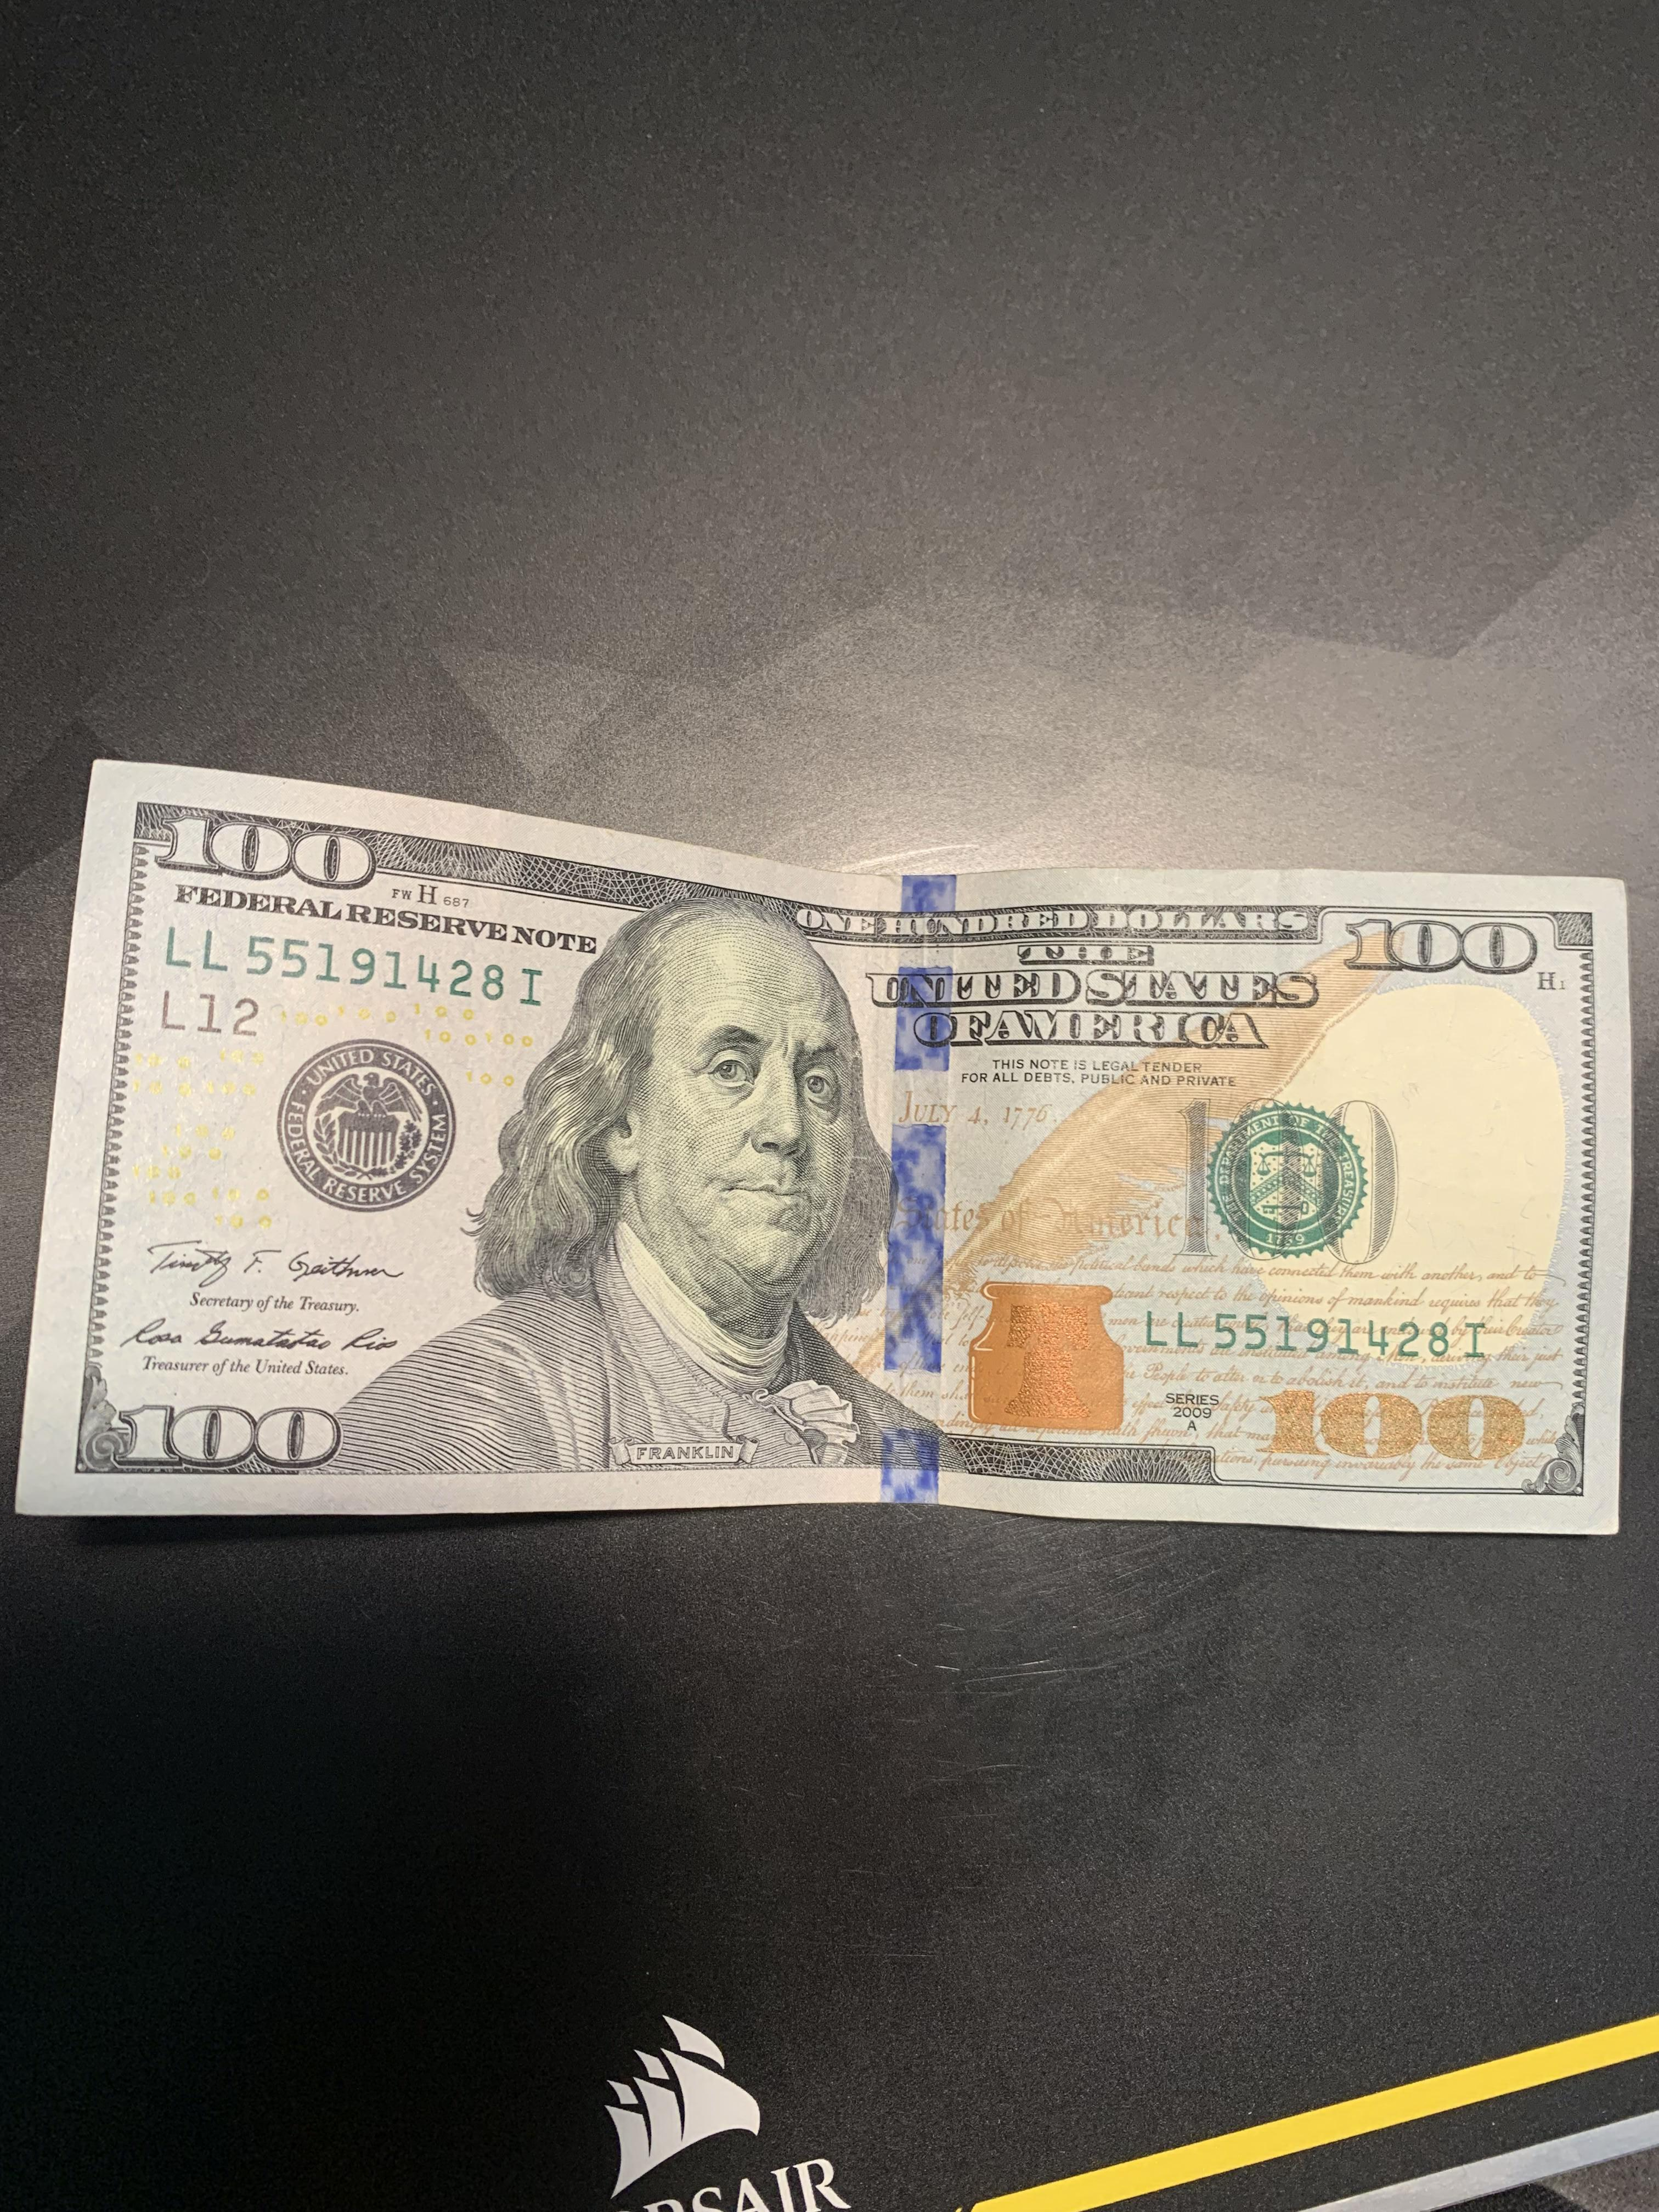HundredBill: (7, 749, 1652, 1541)
